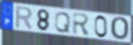0: (94, 15, 108, 39)
8: (36, 9, 51, 33)
O: (110, 16, 130, 41)
Q: (54, 12, 72, 34)
R: (14, 6, 34, 32), (72, 12, 92, 37)
